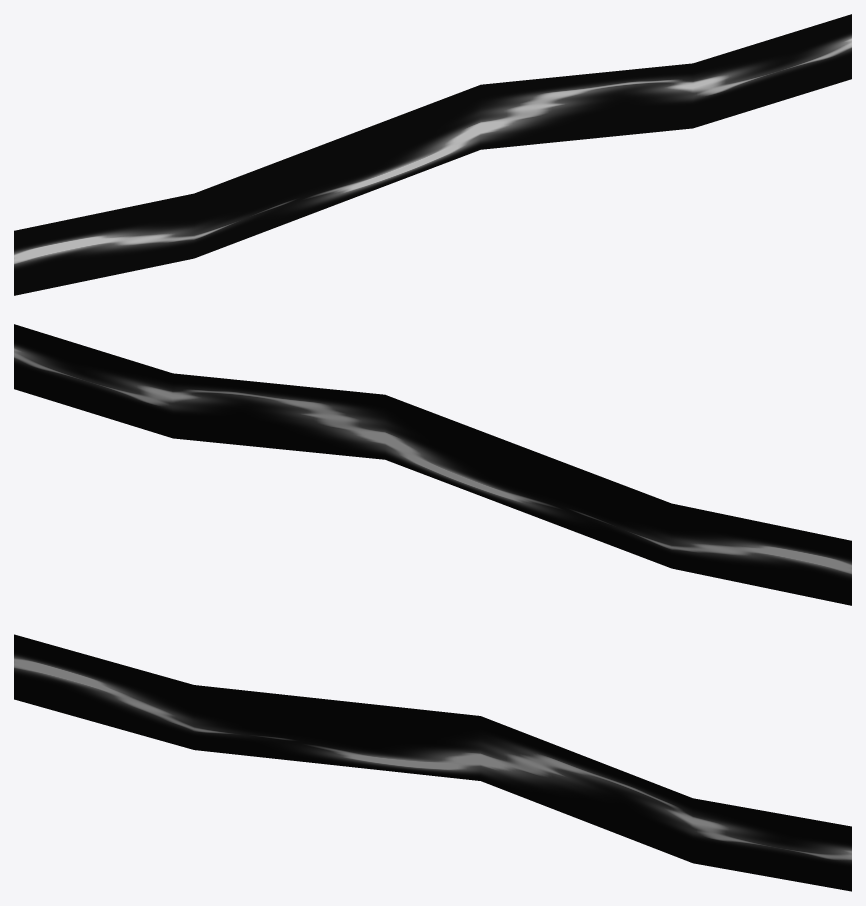
Rendered from Lightning_02.fbx.
3 renders of one model, top to bottom at view 1: azimuth 30°, elevation 25°; view 2: azimuth 150°, elevation 25°; view 3: azimuth 330°, elevation 25°, orthographic.
Visible parts, largest first — view 1: LightningMesh; view 2: LightningMesh; view 3: LightningMesh.
Boxes of the visible parts, left/top/right/bottom form: LightningMesh: left=14, top=14, right=851, bottom=295; LightningMesh: left=14, top=324, right=851, bottom=605; LightningMesh: left=14, top=634, right=851, bottom=891.
Size of the model in its own units: 200 by 23.71 by 2.95e-05.
